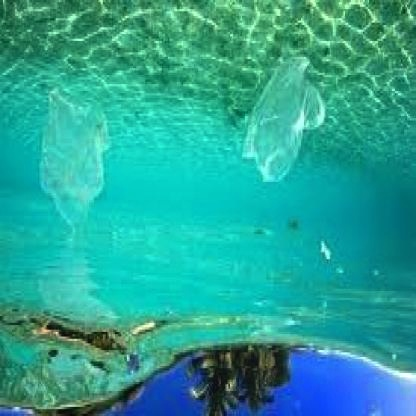pbag: (38, 86, 110, 241), (239, 55, 325, 184)
